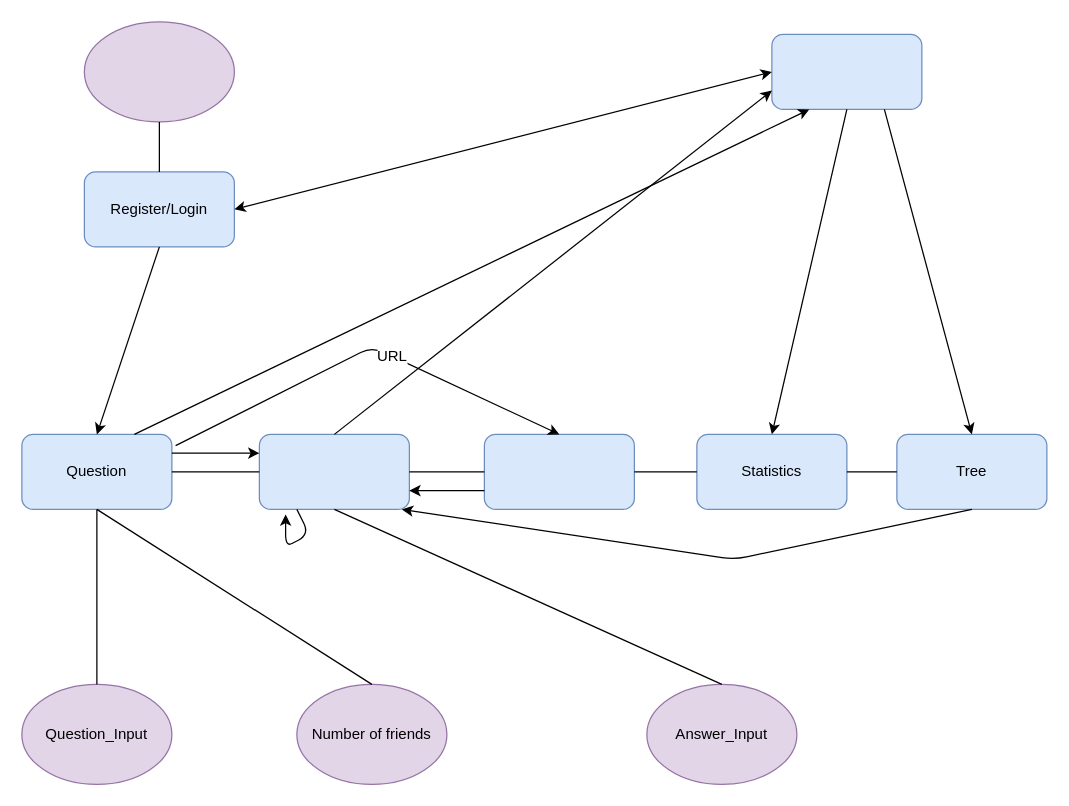
This 1069x806 diagram has some shape labels left out. The shapes that lost their labels are listed below. From the top down, each one's centre as x and y in pixels, then its label:
the point at 158,71: E-mail
the point at 846,71: Database
the point at 333,471: Answers
the point at 558,471: Notification
